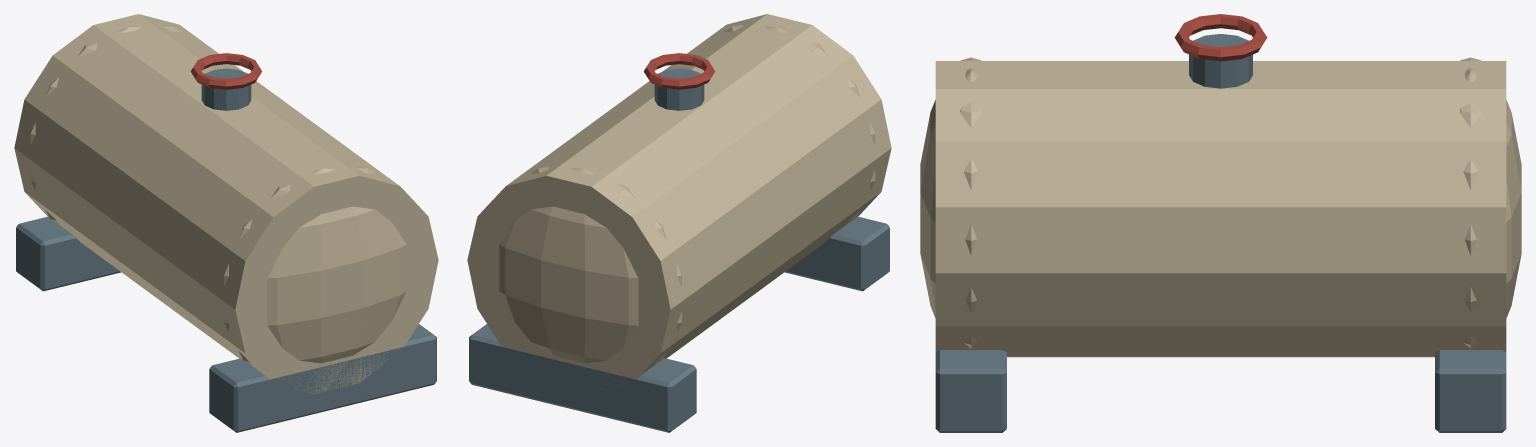
Rendered from props-fuel-tank.lod0.glb.
The picture shows the model from 3 angles, left to right: view 1: azimuth 30°, elevation 25°; view 2: azimuth 150°, elevation 25°; view 3: azimuth 270°, elevation 25°; orthographic projection. The views are drawn at different scales.
Parts seen in each view (by area): view 1: props-fuel-tank__body; view 2: props-fuel-tank__body; view 3: props-fuel-tank__body.
Boxes of the visible parts, x1=… form: props-fuel-tank__body: x1=14, y1=14, x2=438, y2=432; props-fuel-tank__body: x1=467, y1=14, x2=891, y2=432; props-fuel-tank__body: x1=920, y1=14, x2=1521, y2=432.
Size of the model in its own units: 1.7 by 2.09 by 3.37.
